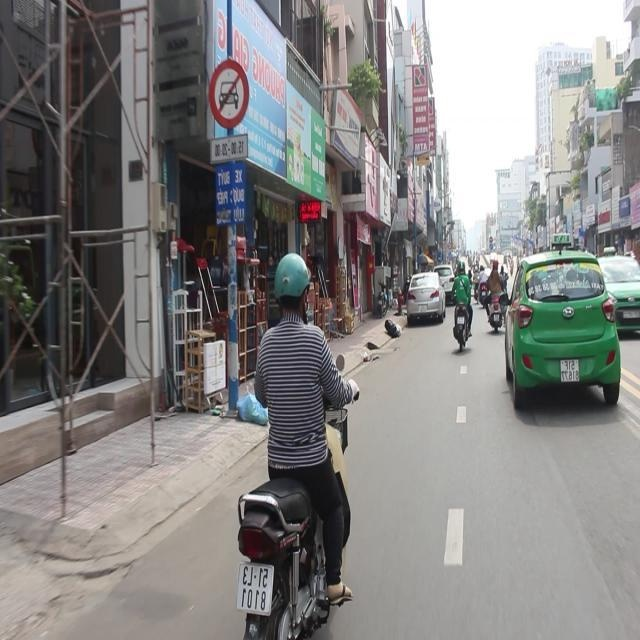P.103a: (209, 57, 250, 127)
